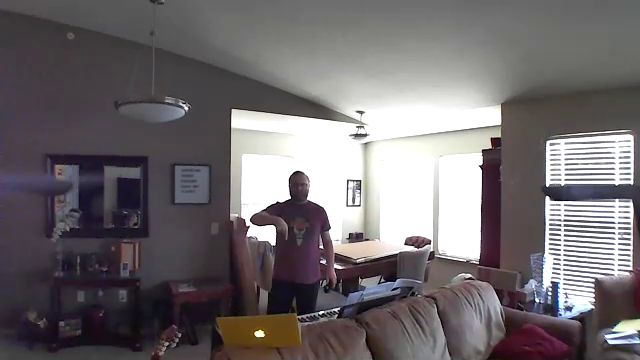down: (271, 213, 291, 242)
